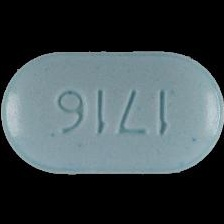58118-0033: (0, 0, 224, 224)
